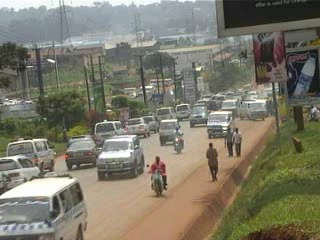Car: (0, 154, 49, 186), (61, 139, 102, 172), (122, 114, 150, 143), (62, 133, 96, 152), (186, 107, 215, 127), (139, 113, 160, 135)
Motorcycle: (145, 155, 170, 194), (0, 167, 17, 196), (169, 126, 187, 153)
